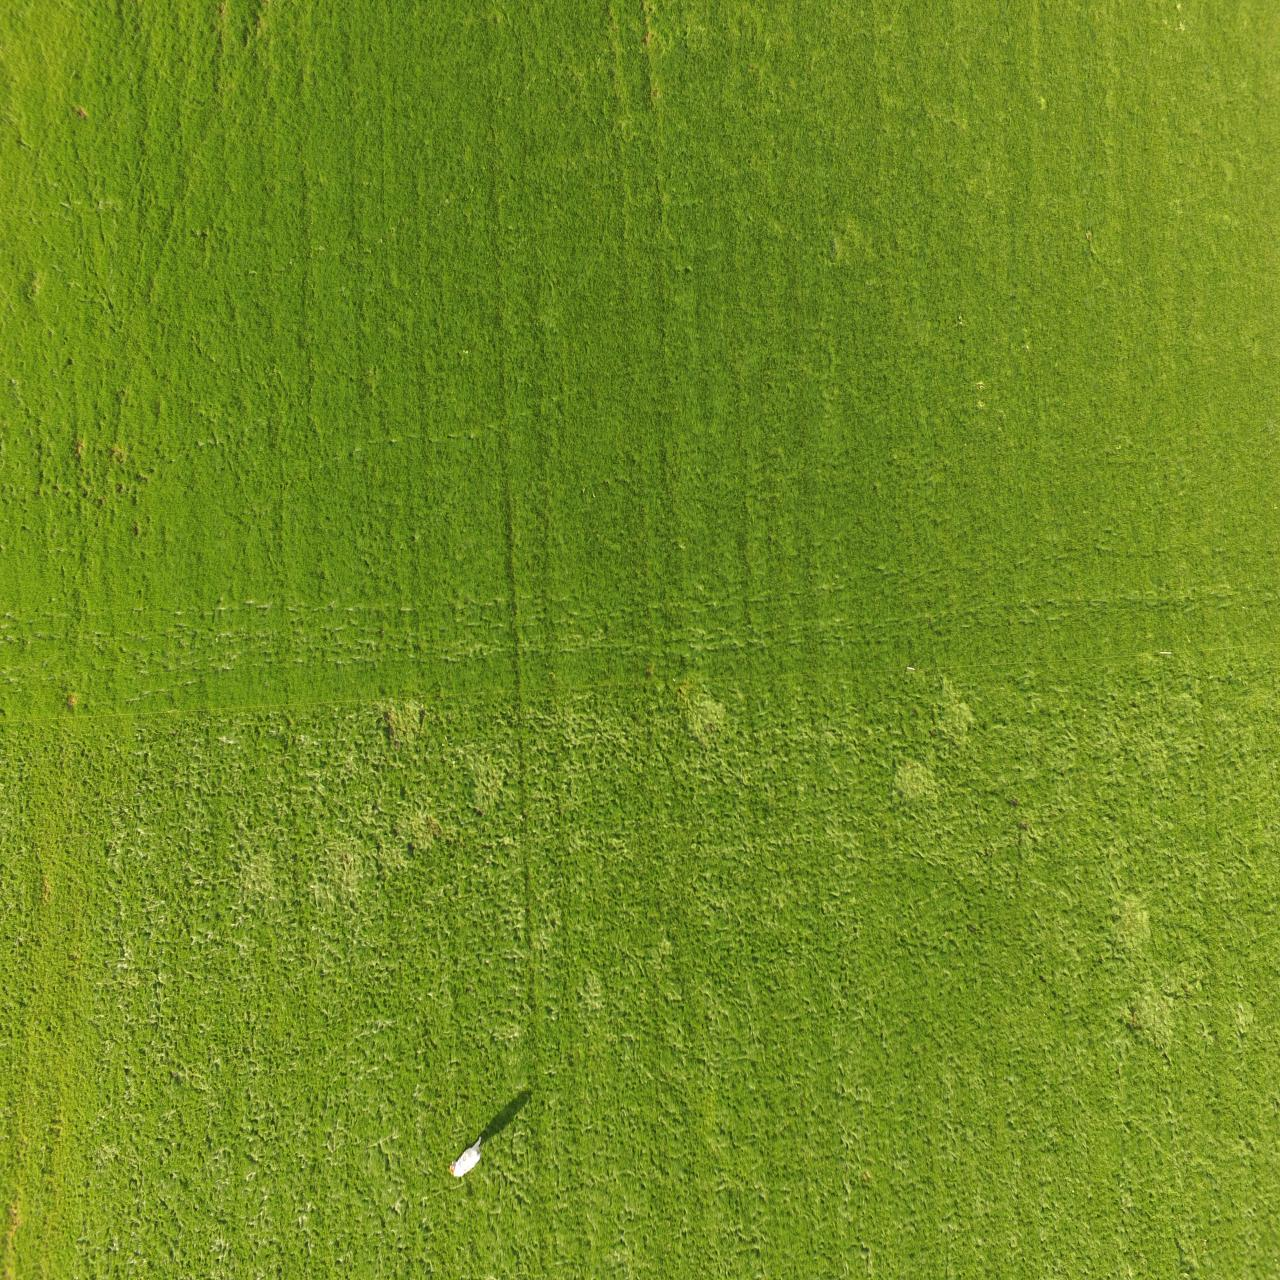cow: (447, 1133, 483, 1180)
